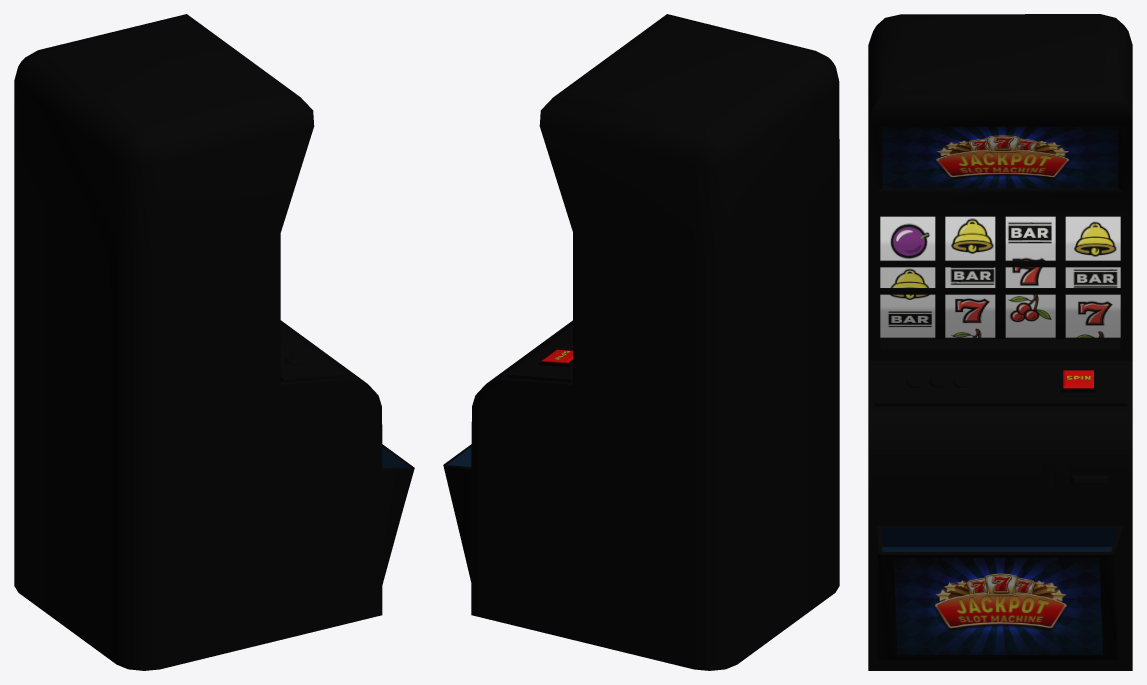
File: SlotMachine.fbx
The picture shows the model from 3 angles, left to right: view 1: azimuth 30°, elevation 25°; view 2: azimuth 150°, elevation 25°; view 3: azimuth 270°, elevation 25°; orthographic projection.
Visible parts, largest first — view 1: Jackpot; view 2: Jackpot; view 3: Jackpot.
Boxes of the visible parts, box(x1,y1,x2,y2) form: Jackpot: box(14, 14, 414, 670); Jackpot: box(443, 14, 839, 670); Jackpot: box(868, 14, 1132, 670).
Size of the model in its own units: 113 by 199 by 87.66.
